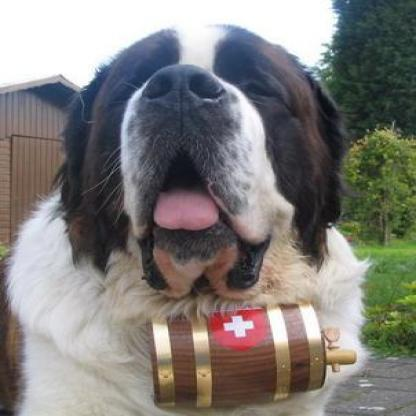Saint_Bernard: (10, 23, 366, 414)
